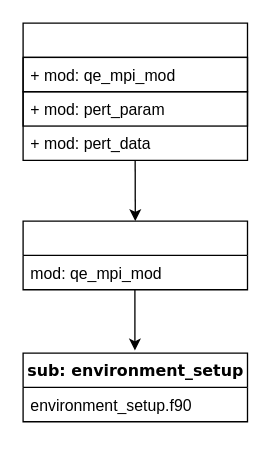
Some shapes in this 271 by 449 pixel diagram are drawn without their labels. Here are the shapes that lost their labels. From the top down, the box of each, then its label:
(22, 22, 248, 160): Perturbo.x
(22, 220, 248, 290): sub: mp_start_up
